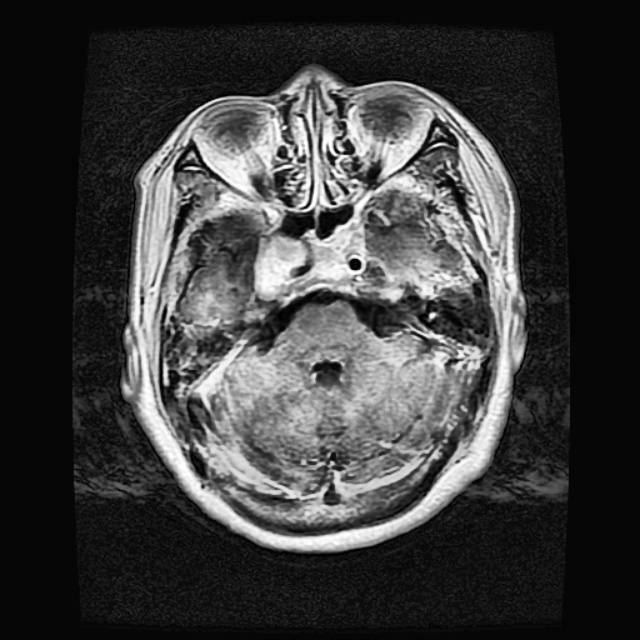Pituitary: (252, 233, 307, 299)
